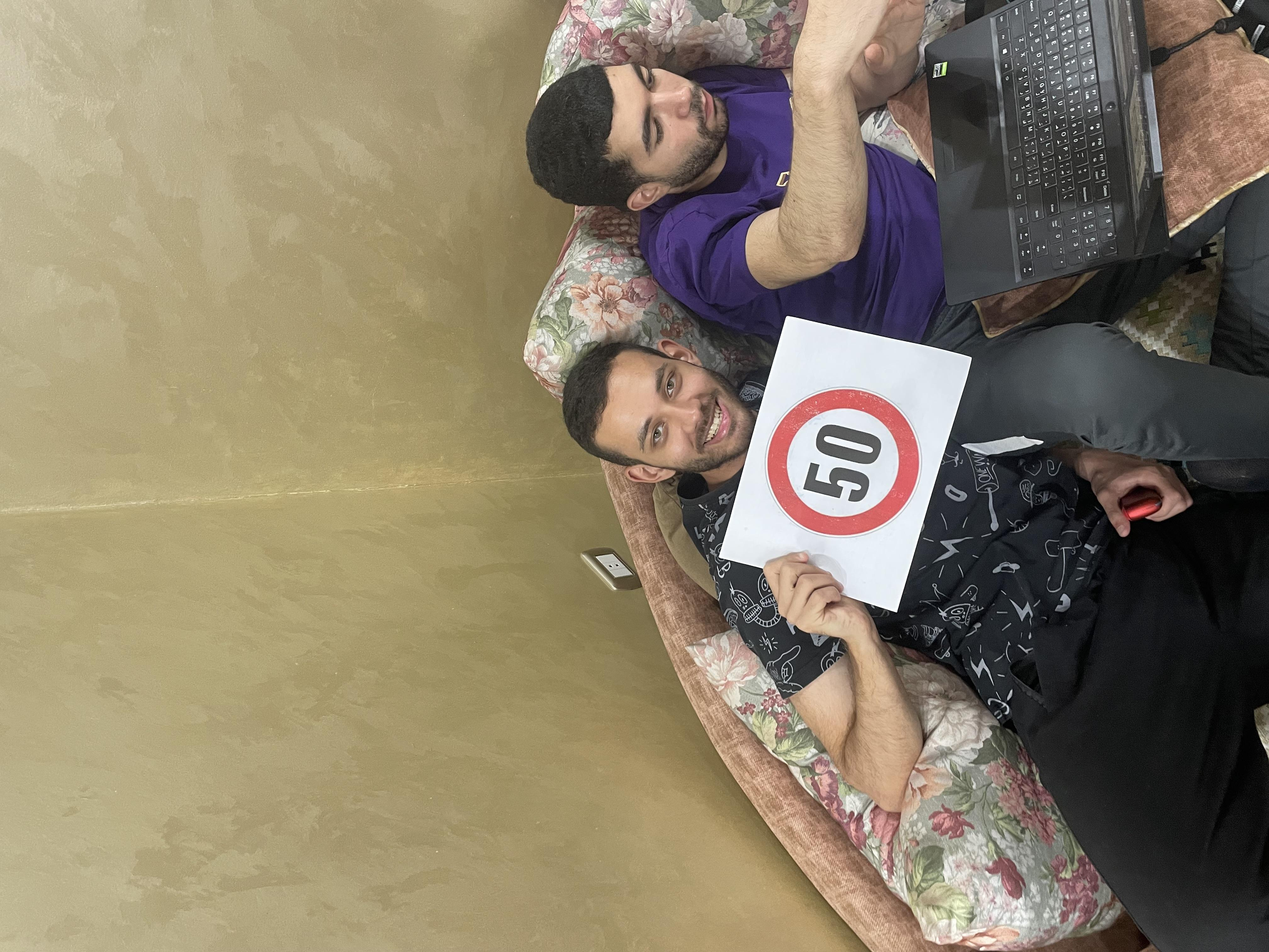50-Speed: (558, 574, 752, 693)
